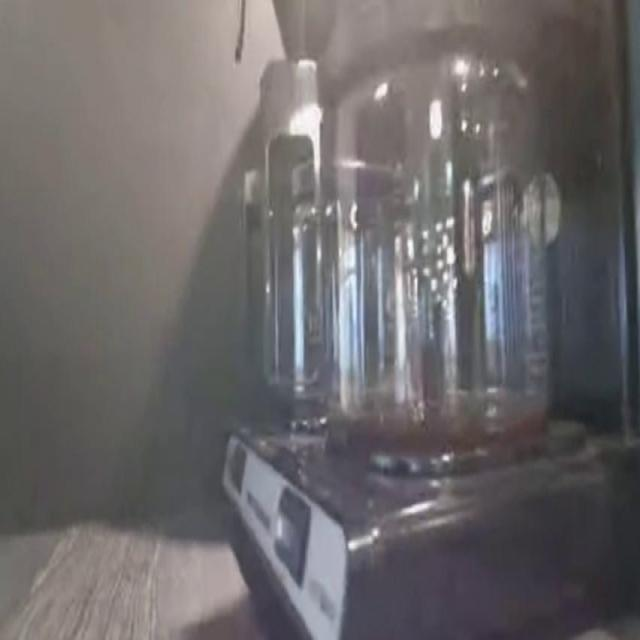nocoffee: (317, 109, 571, 444), (259, 177, 325, 403)
